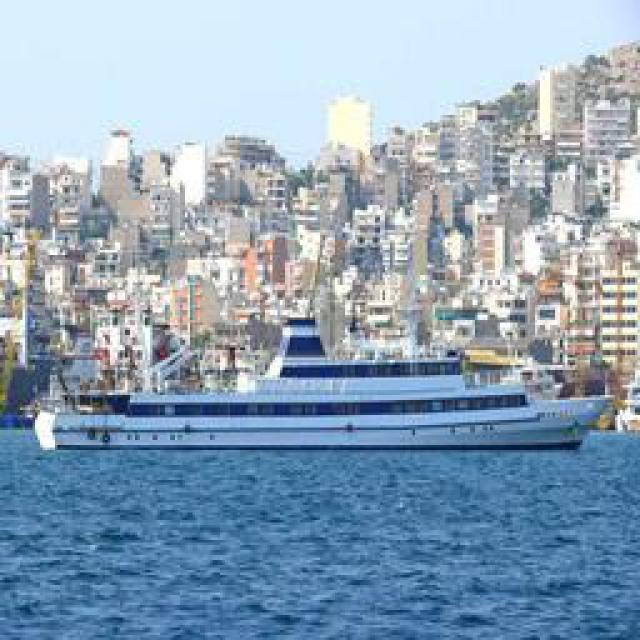Ship: (28, 380, 583, 455)
